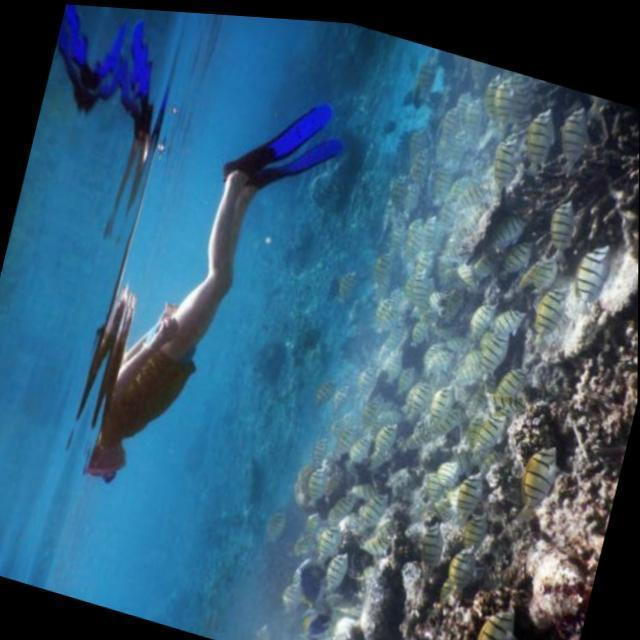Dead Coral: (589, 99, 640, 250)
